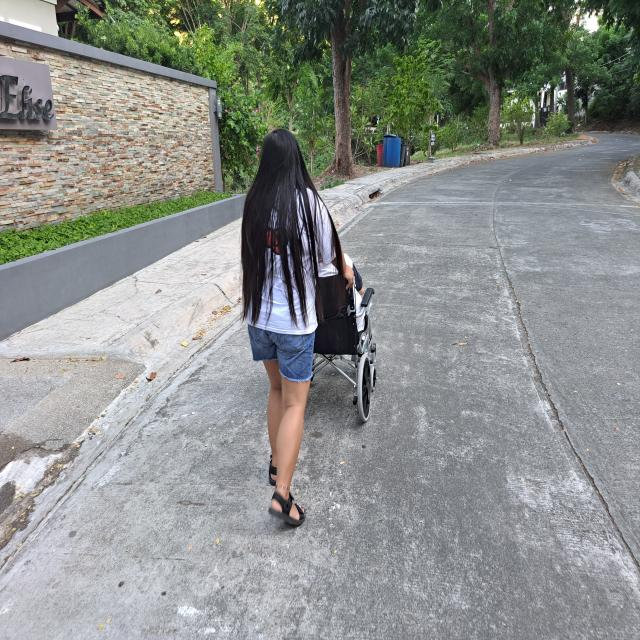wheelchairs: (292, 258, 386, 432)
